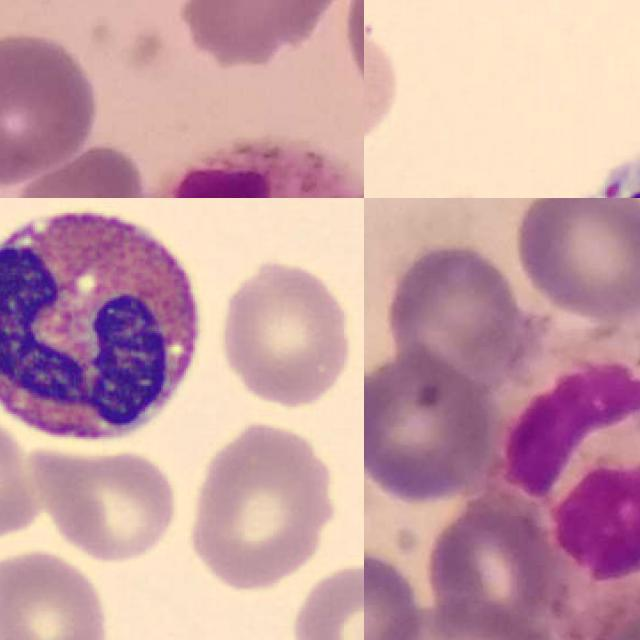Eosinophil: (0, 198, 216, 452)
Neutrophil: (496, 316, 640, 604)
RBC: (184, 416, 342, 594), (215, 254, 357, 411), (26, 442, 182, 564), (0, 544, 113, 640), (285, 558, 364, 640), (364, 14, 404, 155)
